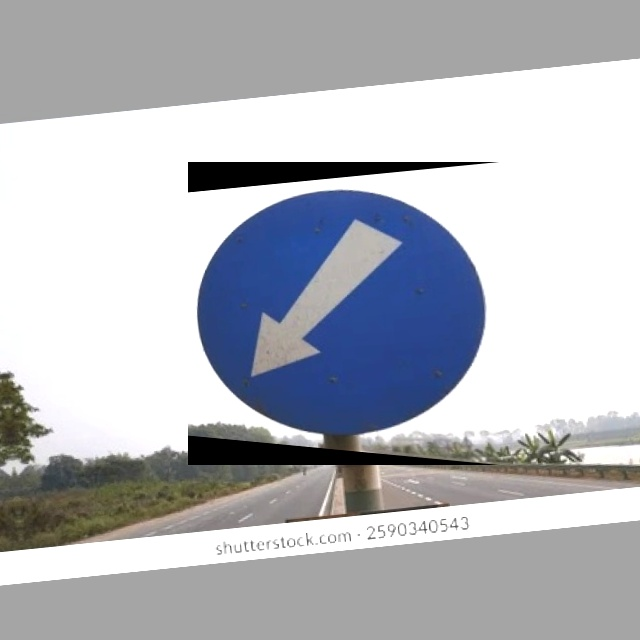Compulsory_Keep_Left: (188, 162, 500, 465)
